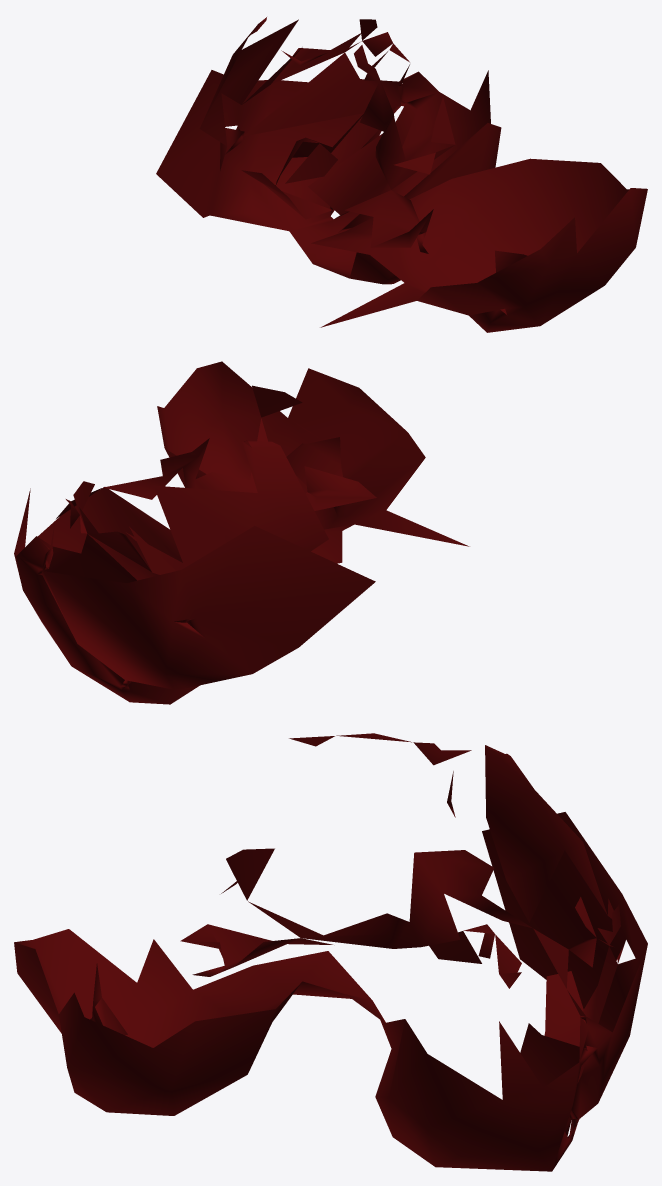
The model's file is FemorePezzoBasso.obj.
3 renders of one model, top to bottom at view 1: azimuth 30°, elevation 25°; view 2: azimuth 150°, elevation 25°; view 3: azimuth 270°, elevation 25°, orthographic. The views are drawn at different scales.
Visible parts, largest first — view 1: GambaSingolaFemore.003_GambaSingolaFemore.005; view 2: GambaSingolaFemore.003_GambaSingolaFemore.005; view 3: GambaSingolaFemore.003_GambaSingolaFemore.005.
Boxes of the visible parts, x1,y1,x2,y2 form: GambaSingolaFemore.003_GambaSingolaFemore.005: (156,17,647,332); GambaSingolaFemore.003_GambaSingolaFemore.005: (14,361,469,704); GambaSingolaFemore.003_GambaSingolaFemore.005: (14,733,647,1171).
Size of the model in its own units: 49.98 by 24.69 by 39.2.
